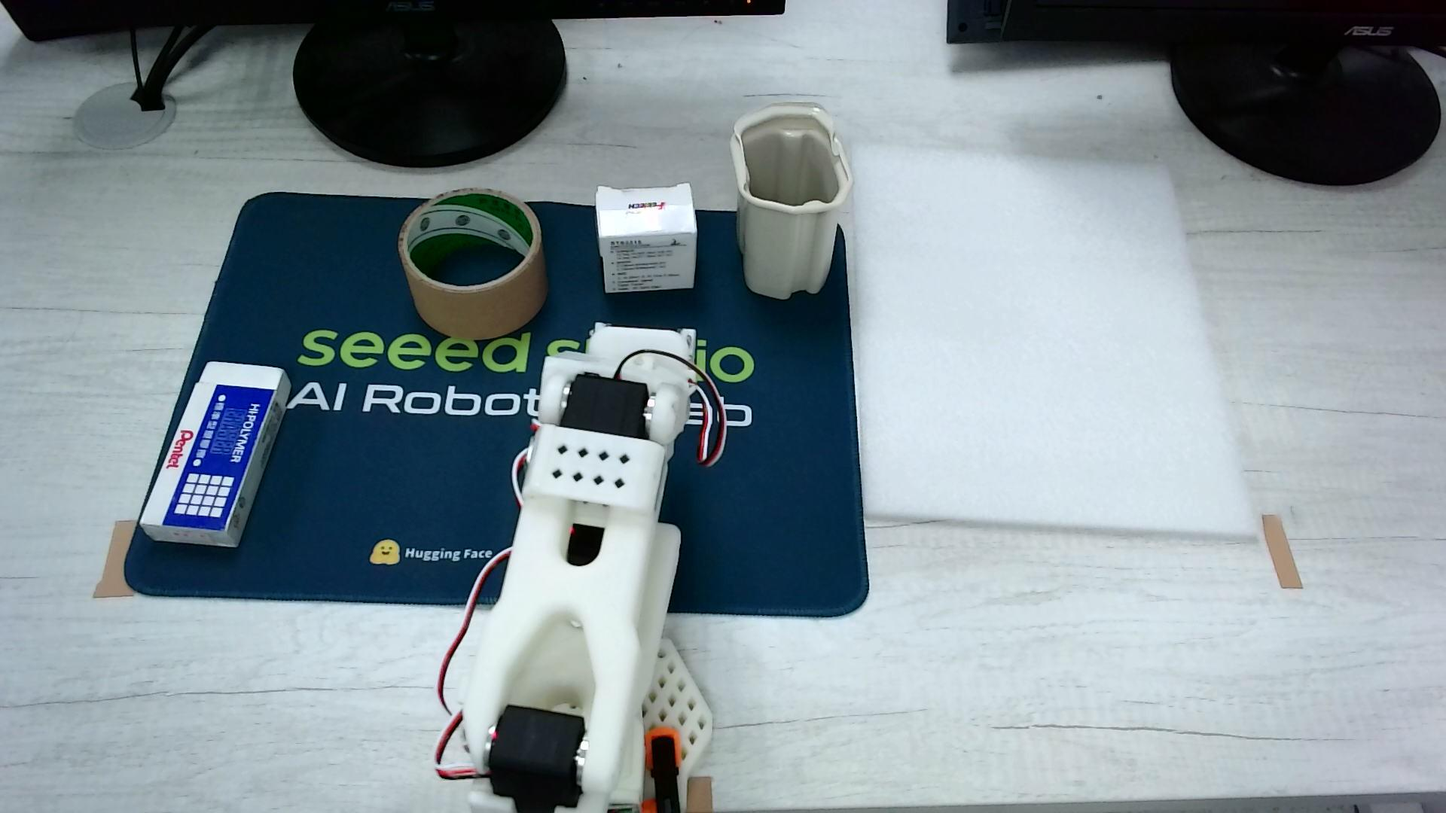eraser: (596, 183, 697, 294)
